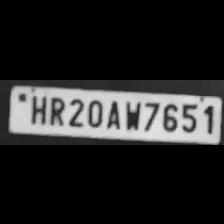0: (84, 96, 104, 126)
1: (198, 100, 218, 134)
2: (65, 94, 84, 126)
5: (178, 100, 198, 132)
6: (158, 99, 178, 131)
7: (141, 98, 159, 130)
A: (104, 97, 122, 129)
H: (26, 92, 46, 124)
R: (46, 93, 66, 125)
W: (120, 96, 142, 130)
